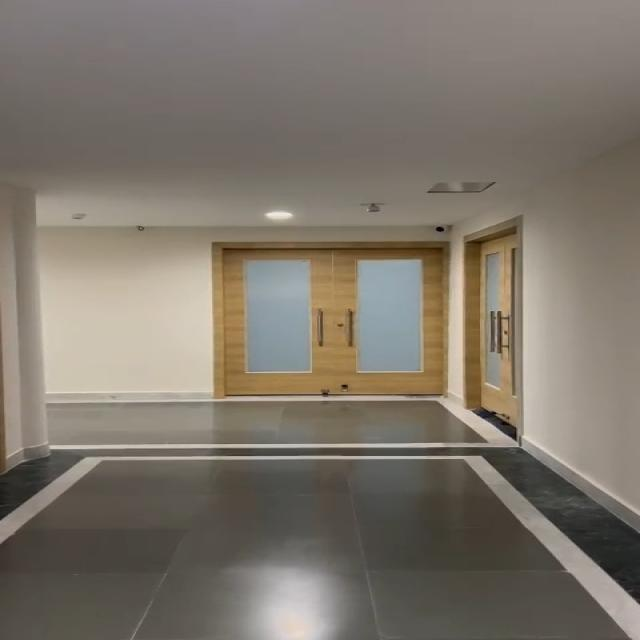door: (209, 236, 447, 400), (459, 221, 522, 427)
floor: (6, 444, 558, 640), (57, 401, 509, 452)
wall: (6, 189, 202, 395), (528, 178, 640, 476)
